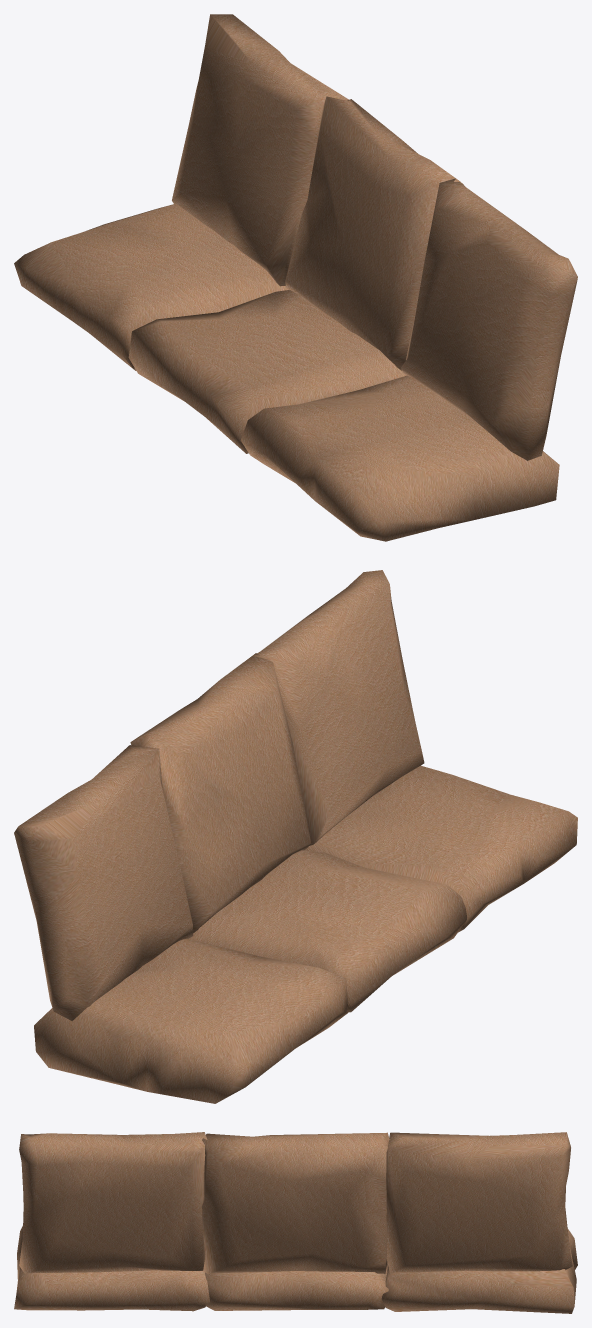
File: sofa decrease_.fbx
3 views of the same model, one above another, from view 1: azimuth 30°, elevation 25°; view 2: azimuth 150°, elevation 25°; view 3: azimuth 270°, elevation 25° (orthographic). The views are drawn at different scales.
Parts seen in each view (by area): view 1: SOFA; view 2: SOFA; view 3: SOFA.
Part boxes in pixels (x1,y1,x2,y2): SOFA: (14, 14, 577, 541); SOFA: (14, 570, 577, 1103); SOFA: (14, 1132, 577, 1313).
Bounding box in the file's own units: 423 × 425 × 1133.
1 material, 1 textured.
